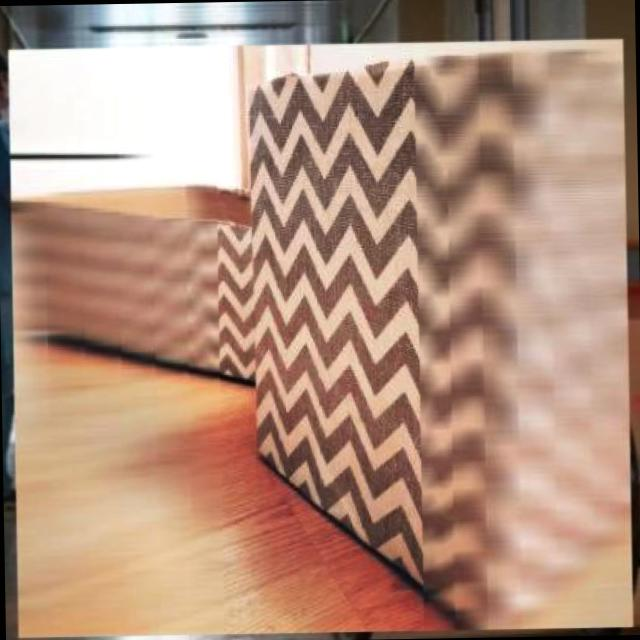box: (0, 29, 640, 640)
